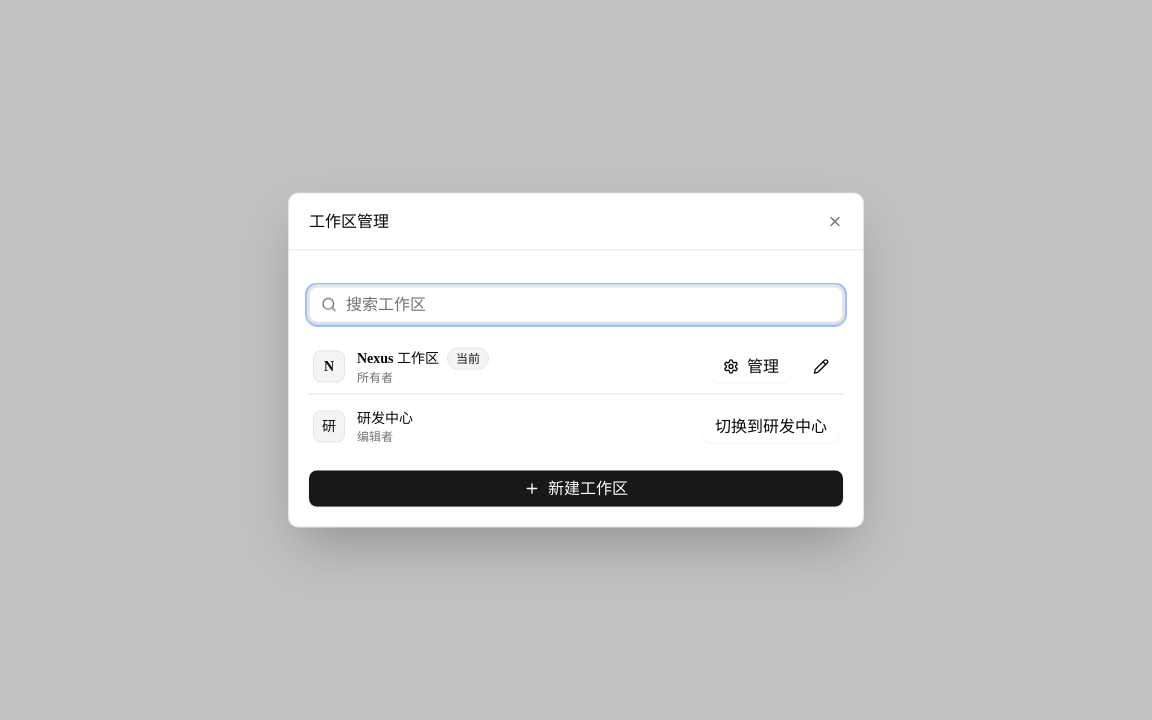
WorkspaceManagerDialog › searches workspaces and exposes role-appropriate actions
Expected: the button named "重命名 Nexus 工作区" is enabled, [803,348,839,384]
Click the button "切换到研发中心": coordinates (771, 426) [703,410,839,442]
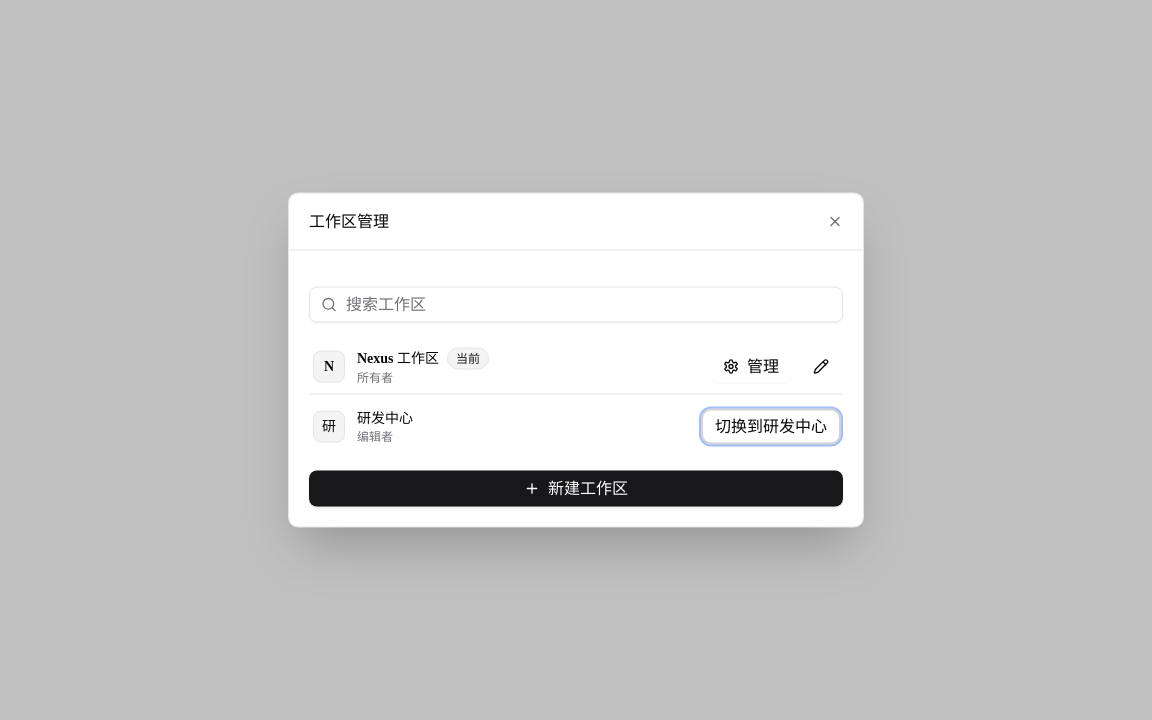
In the search field labelled "搜索工作区": coordinates (576, 304) [309,286,843,322], type "研发"
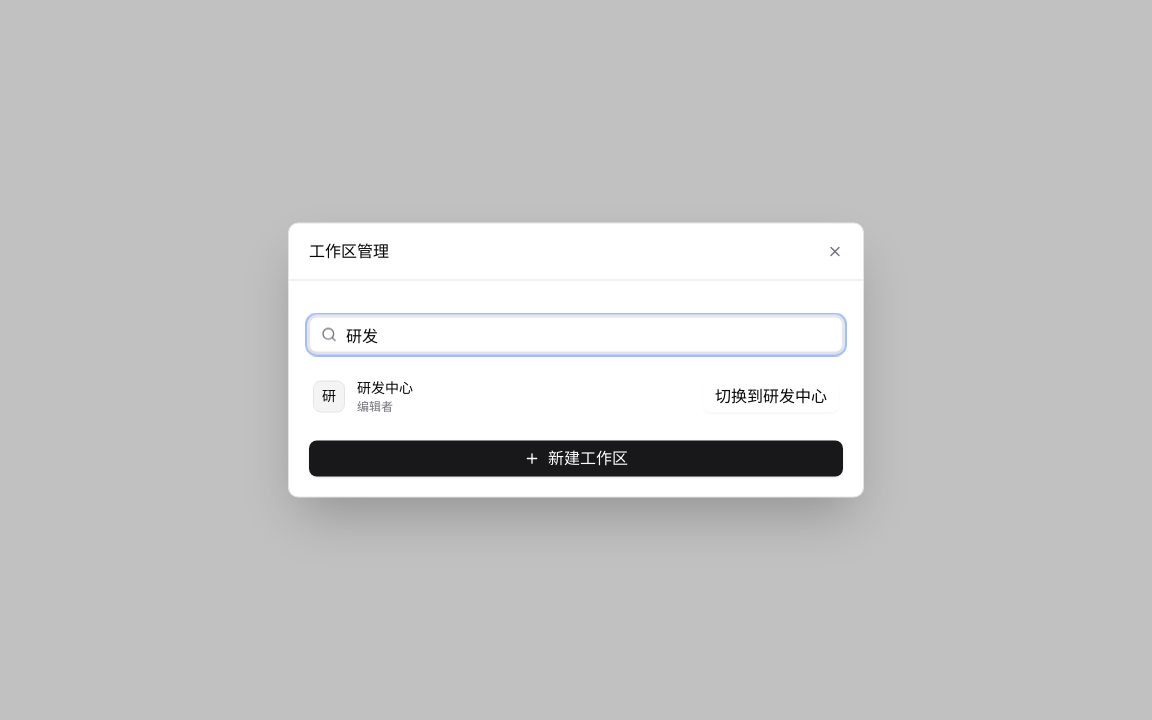
Expected: the text "研发中心" is shown, [357,378,413,398]
Expected: the text "Nexus 工作区" is gone
